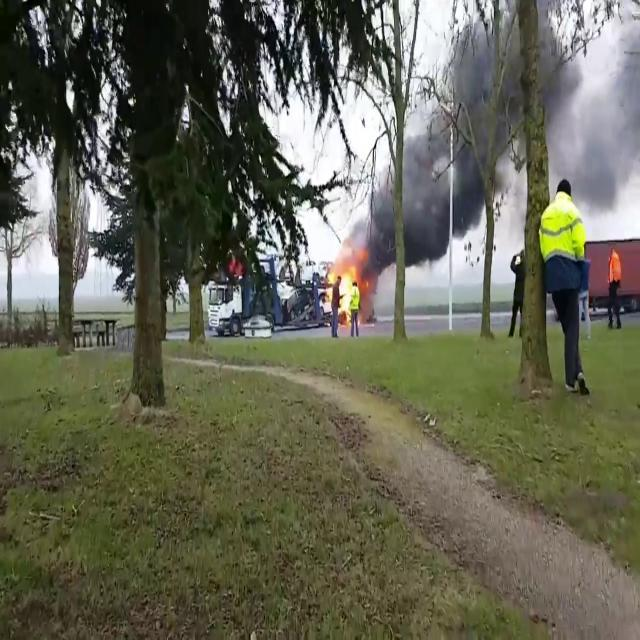Fire: (323, 255, 366, 317)
Smoke: (353, 104, 483, 274), (542, 8, 640, 220)
